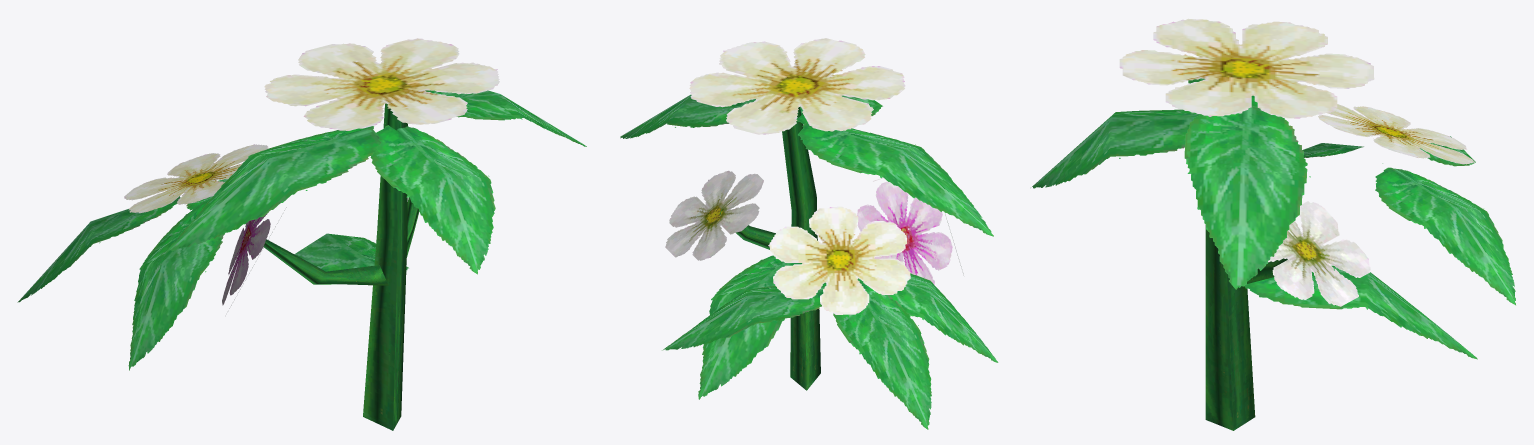
The model's file is nml-bd033.glb.
3 views of the same model, side by side, from view 1: azimuth 30°, elevation 25°; view 2: azimuth 150°, elevation 25°; view 3: azimuth 270°, elevation 25° (orthographic). The views are drawn at different scales.
Visible parts, largest first — view 1: geom_node_0; view 2: geom_node_0; view 3: geom_node_0.
Boxes of the visible parts, x1=… form: geom_node_0: x1=17, y1=38, x2=586, y2=430; geom_node_0: x1=620, y1=38, x2=998, y2=429; geom_node_0: x1=1032, y1=18, x2=1515, y2=430.
Bounding box in the file's own units: 2.33 × 1.64 × 2.01.
Materials: 1 (1 with a texture image).
